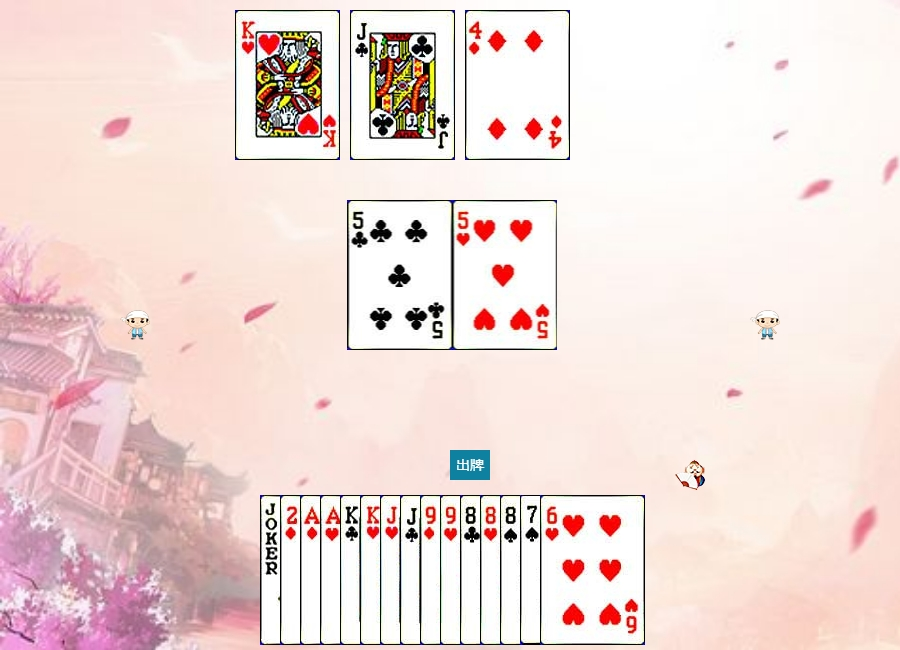11~2: (350, 10, 455, 160), (400, 495, 505, 645)
11~3: (380, 495, 485, 645)
13~2: (340, 495, 445, 645)
13~3: (235, 10, 340, 160), (360, 495, 465, 645)
14~1: (300, 495, 405, 645)
14~3: (320, 495, 425, 645)
15~1: (280, 495, 385, 645)
17~3: (260, 495, 365, 645)
4~1: (465, 10, 570, 160)
5~2: (348, 200, 453, 350)
5~3: (453, 200, 558, 350)
6~3: (540, 495, 645, 645)
7~4: (520, 495, 625, 645)
8~2: (460, 495, 565, 645)
8~3: (480, 495, 585, 645)
8~4: (500, 495, 605, 645)
9~1: (420, 495, 525, 645)
9~3: (440, 495, 545, 645)
